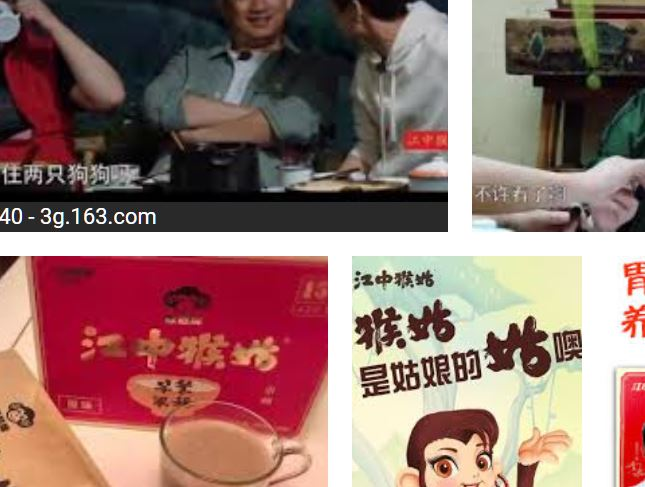box: (28, 255, 327, 420)
